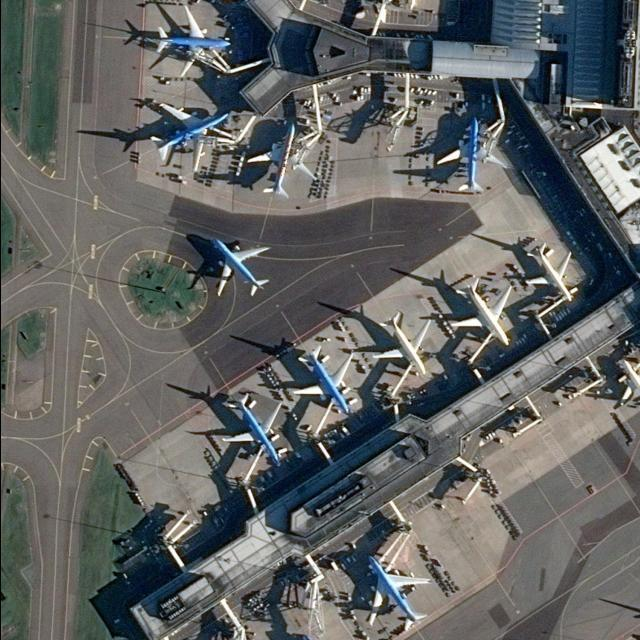Aircraft: (149, 101, 229, 172), (151, 5, 229, 77), (435, 116, 505, 194), (246, 121, 314, 199), (363, 553, 429, 632), (219, 391, 283, 466), (448, 275, 512, 347), (290, 343, 354, 415), (371, 309, 431, 377), (208, 236, 270, 298), (523, 241, 574, 302), (615, 356, 640, 418)
